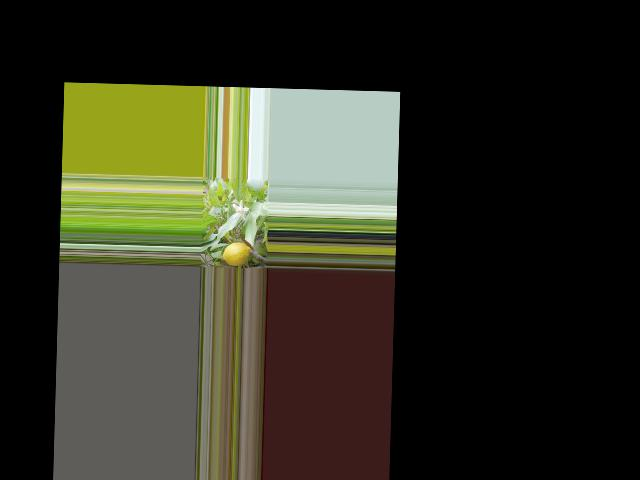lemon: (221, 238, 252, 266)
